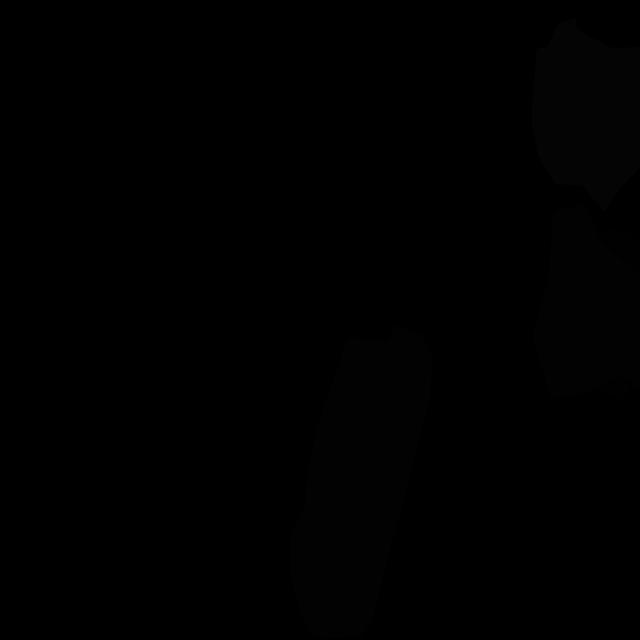cardboard: (290, 325, 432, 639), (532, 205, 640, 400)
rigid_plastic: (600, 227, 639, 275), (598, 378, 630, 399)
soft_plastic: (531, 17, 640, 212)
